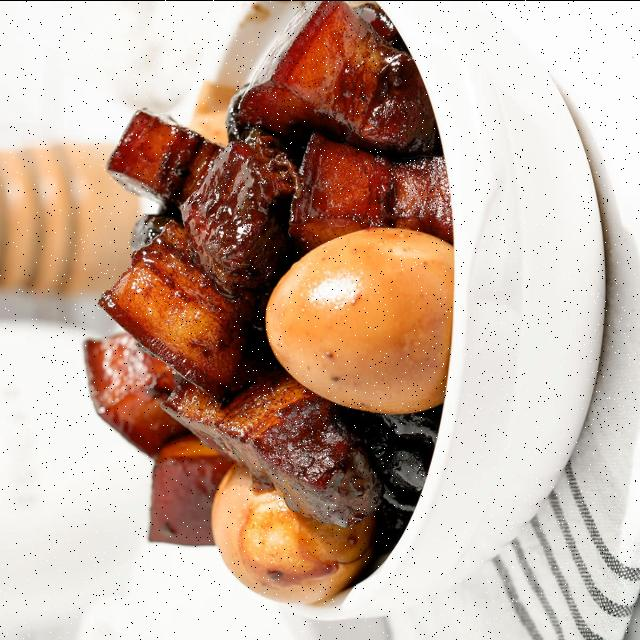Egg: (266, 227, 453, 413), (212, 463, 375, 605)
Pork: (86, 1, 452, 544)
